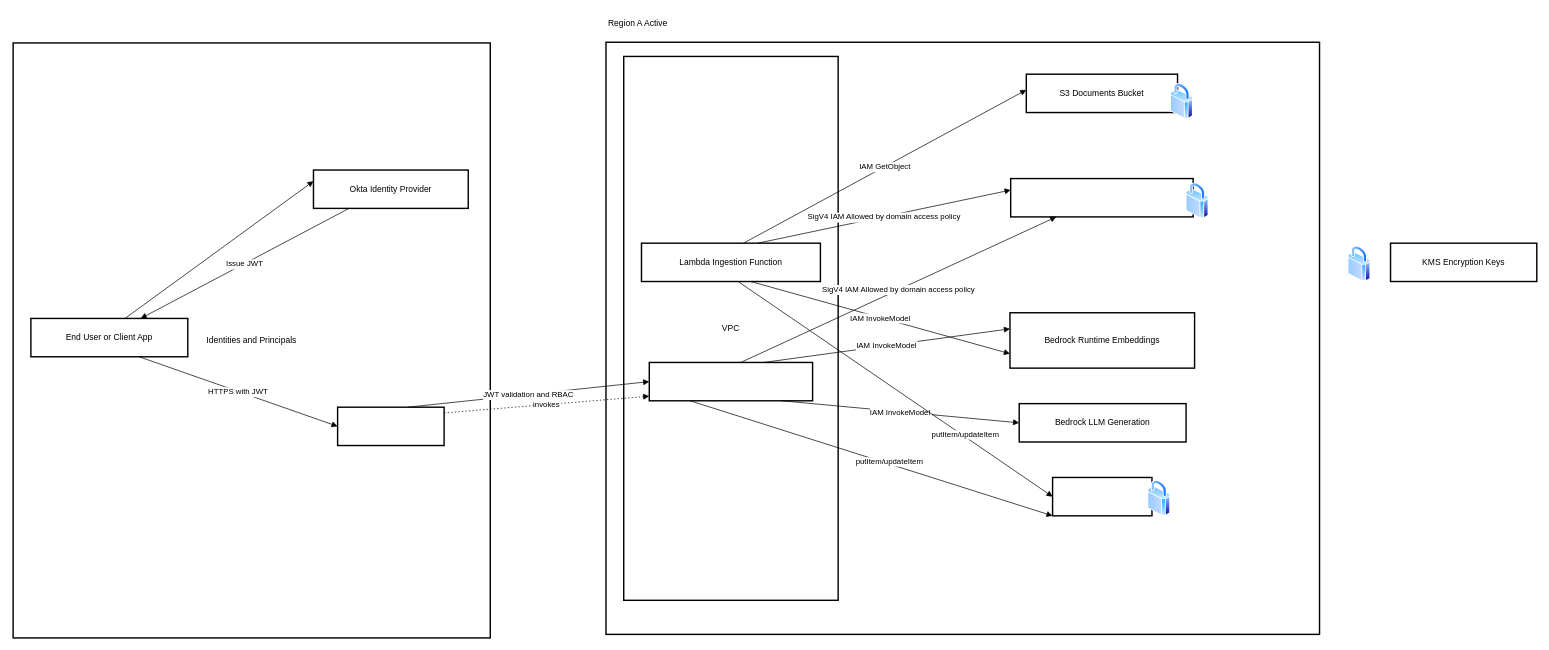
Some shapes in this 1549 by 650 pixel diagram are drawn without their labels. The shapes that lost their labels are listed below. From the top down, each one's box as (x1, y1, x2, y2) in pixels, then its label:
(1010, 178, 1194, 217): OpenSearch
(648, 361, 813, 401): Lambda Query Function
(337, 406, 444, 446): API Gateway
(1052, 476, 1152, 516): Audit Store
